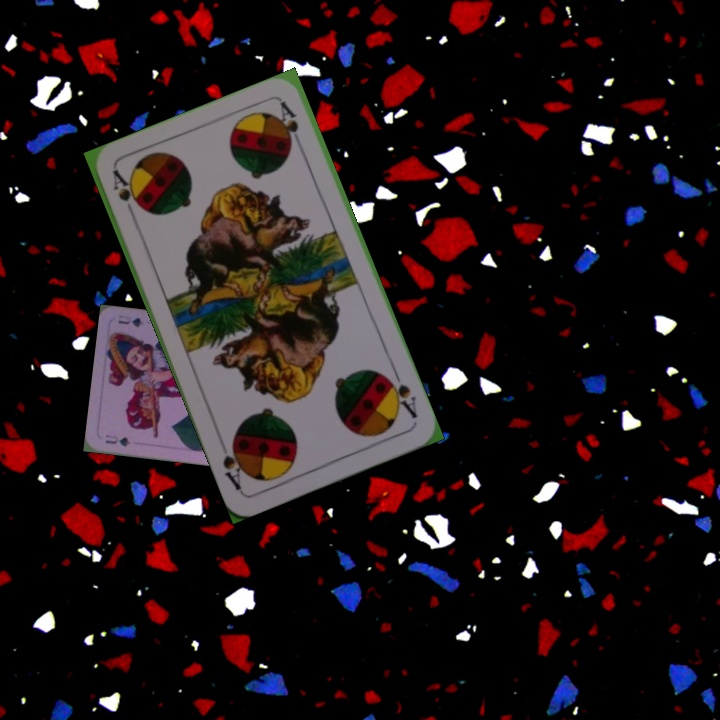GU: (101, 431, 133, 449)
SA: (381, 366, 420, 421), (109, 166, 141, 223)
